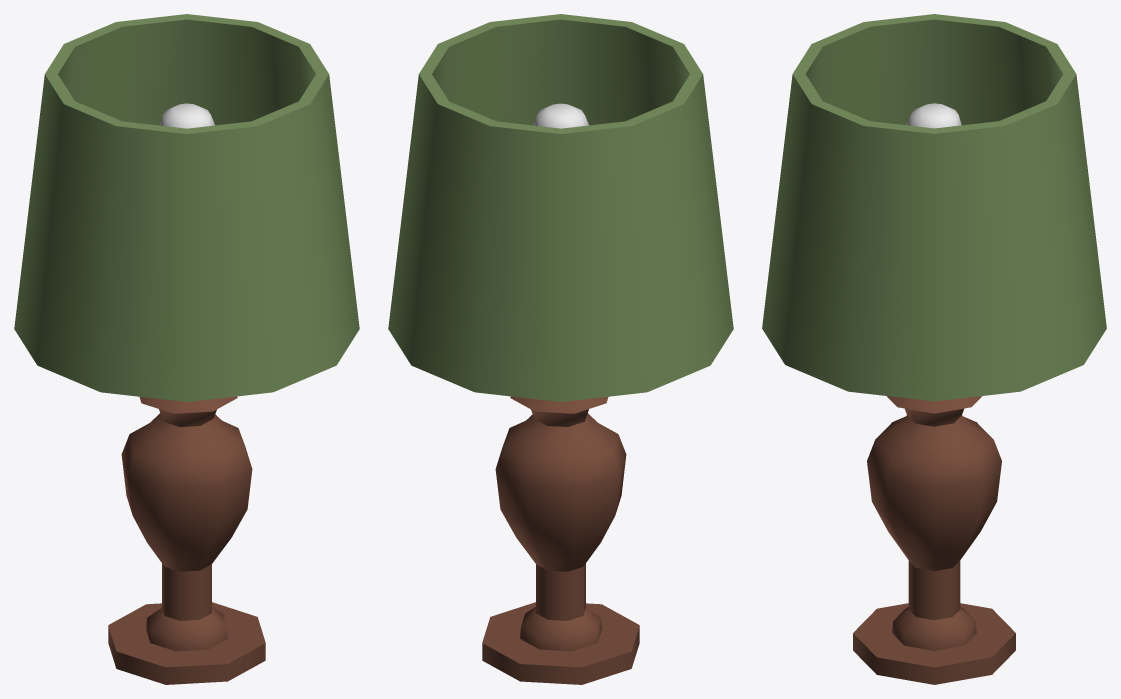
File: Lamp_01.fbx
The picture shows the model from 3 angles, left to right: view 1: azimuth 30°, elevation 25°; view 2: azimuth 150°, elevation 25°; view 3: azimuth 270°, elevation 25°; orthographic projection.
Visible parts, largest first — view 1: Lamp_01; view 2: Lamp_01; view 3: Lamp_01.
Boxes of the visible parts, x1=… form: Lamp_01: x1=14, y1=14, x2=359, y2=684; Lamp_01: x1=388, y1=14, x2=733, y2=684; Lamp_01: x1=762, y1=14, x2=1106, y2=684.
Size of the model in its own units: 0.2719 by 0.5016 by 0.2719.
